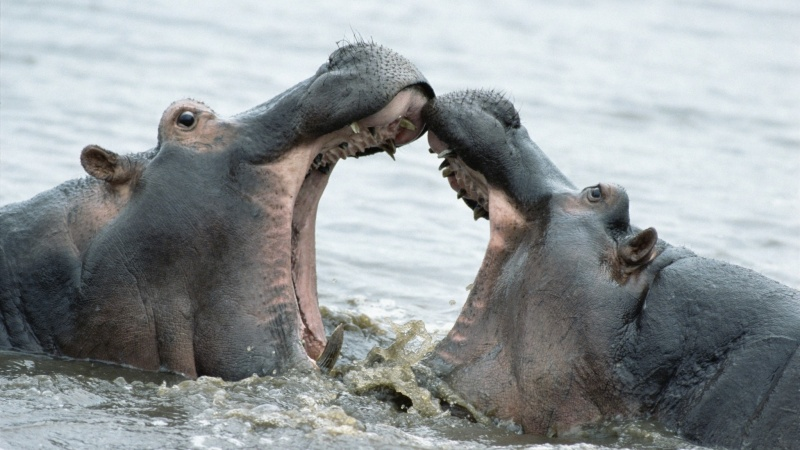hipopotamo: (0, 38, 436, 389), (417, 75, 681, 443)
